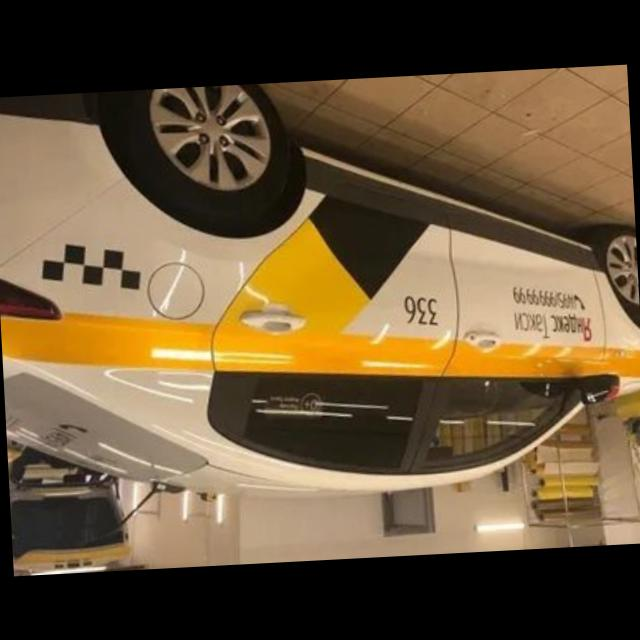taxi: (1, 65, 640, 518)
